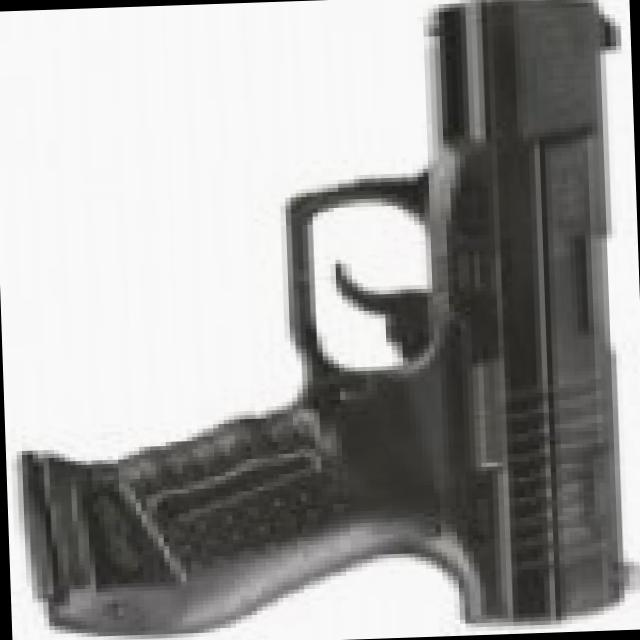handgun: (22, 0, 639, 635)
